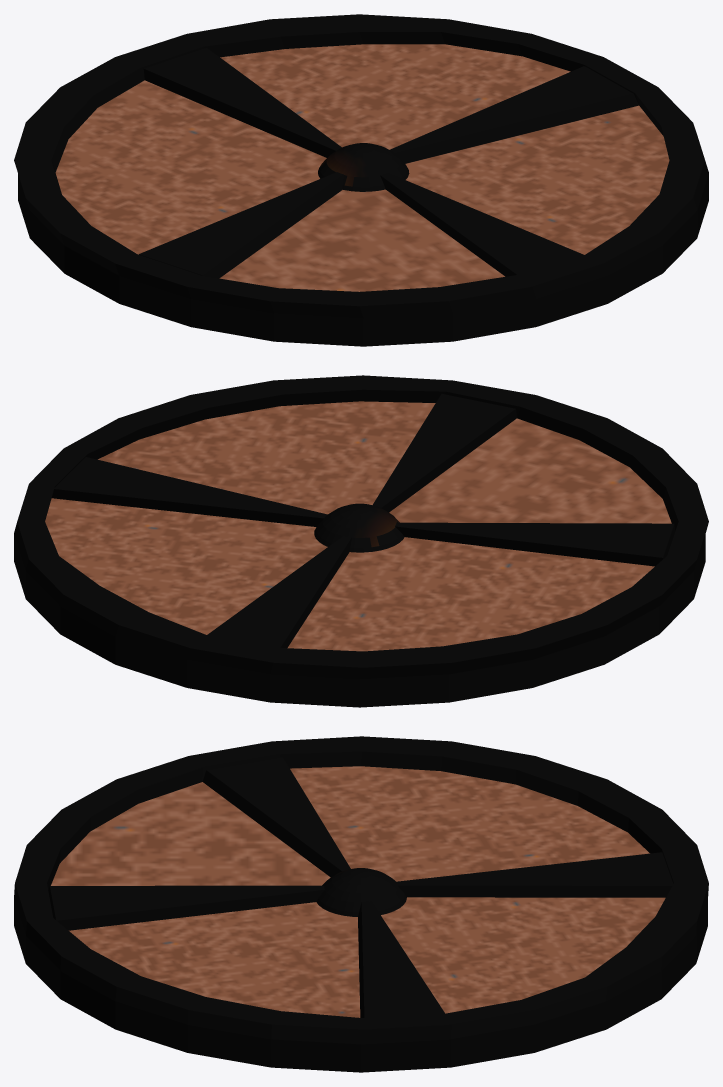
Rendered from leather_shiel_mesh.glb.
3 renders of one model, top to bottom at view 1: azimuth 30°, elevation 25°; view 2: azimuth 150°, elevation 25°; view 3: azimuth 270°, elevation 25°, orthographic.
Visible parts, largest first — view 1: Circle; view 2: Circle; view 3: Circle.
Boxes of the visible parts, bbox=[...] form: Circle: bbox=[14, 14, 708, 346]; Circle: bbox=[14, 375, 708, 707]; Circle: bbox=[14, 736, 708, 1072].
Bounding box in the file's own units: 2.01 × 0.4013 × 2.
1 material, 1 textured.
